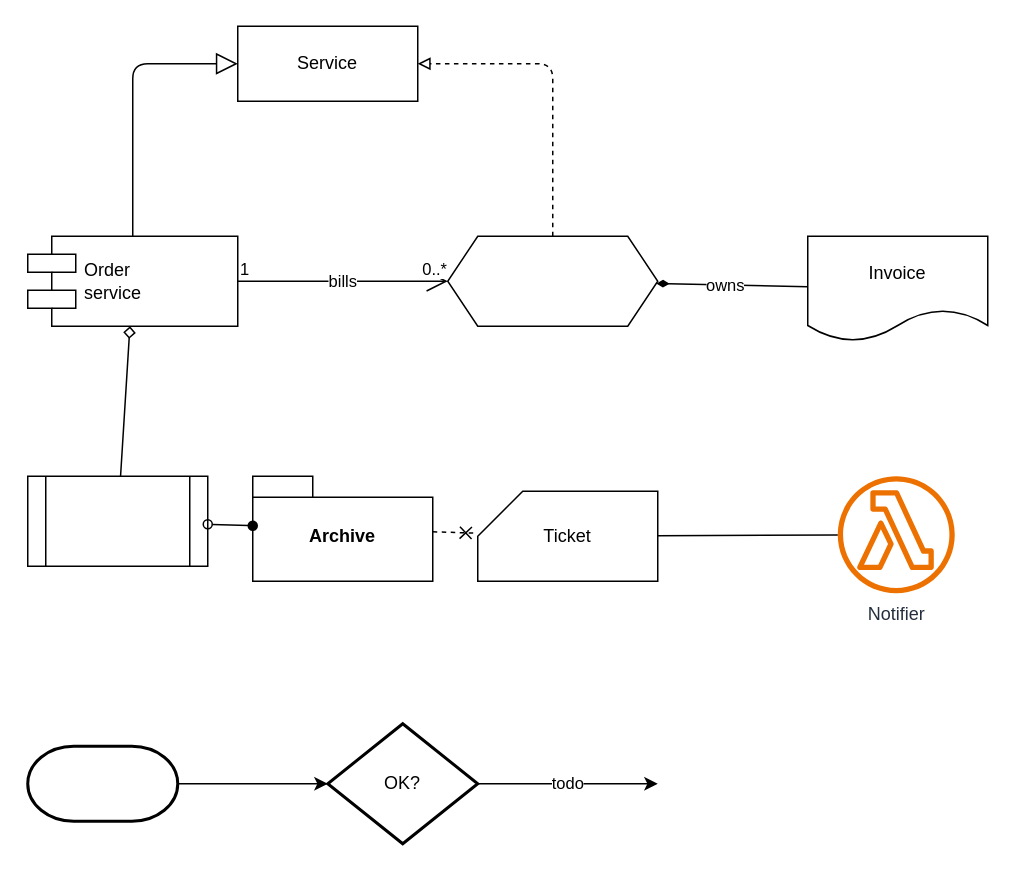
Image size: 1014x872. Some labels were removed from this diagram. The centre of each missing label's shape, as x and y in pixels:
"Billing" belongs at [552,280].
"Events" belongs at [117,520].
"Start" belongs at [102,783].
